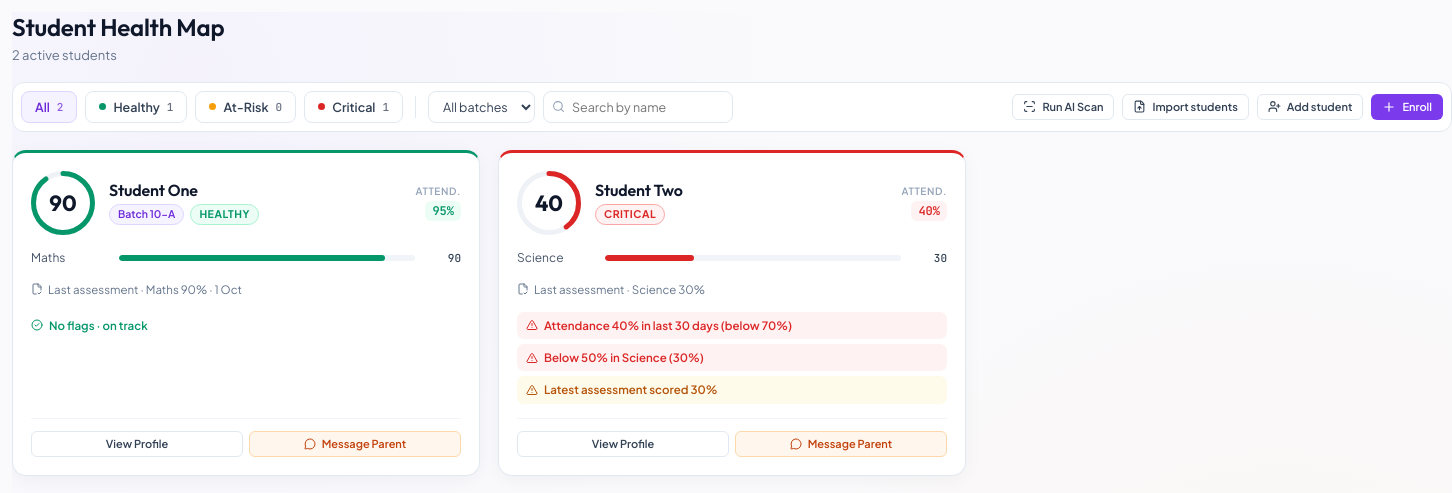
Test case: StudentHealthView › filters by health pill, search and batch
The image size is (1452, 493).
Expected: the heading "Student One" is shown, left=109, top=180, right=198, bottom=200
Click the button "Critical 1".
click(354, 106)  # box left=304, top=90, right=403, bottom=122
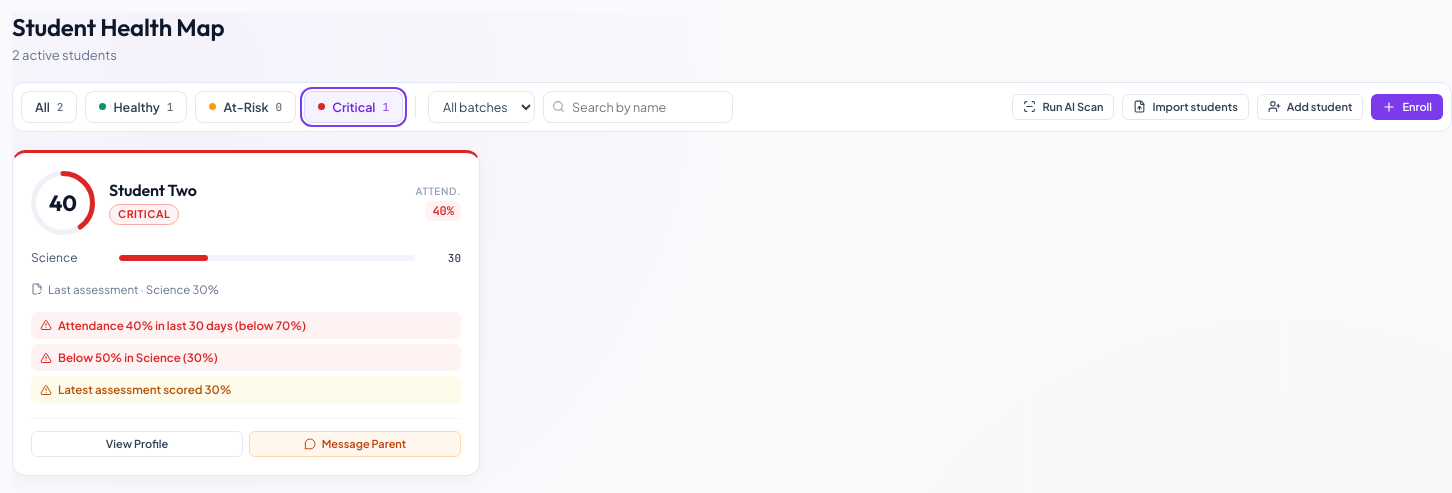
Expected: the heading "Student Two" is shown, left=109, top=180, right=197, bottom=200
Now the heading "Student One" is gone
Click the button "All 2".
click(49, 106)  # box left=21, top=90, right=77, bottom=122
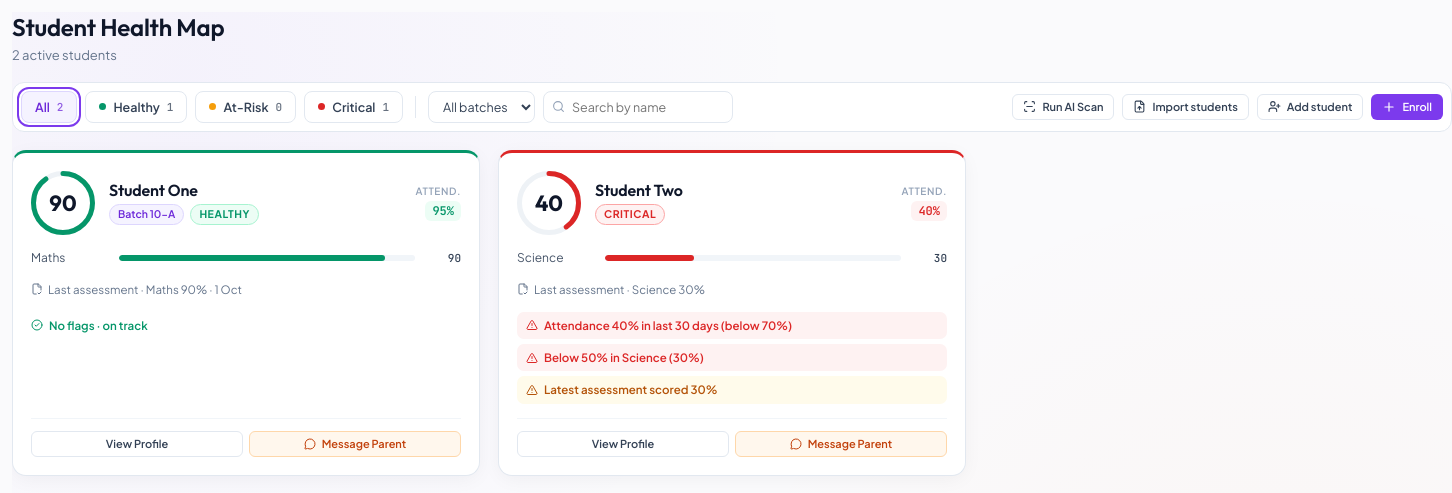
Type "two" into the search field named "Search students by name".
click(638, 106); type("two")  # box left=543, top=90, right=733, bottom=122
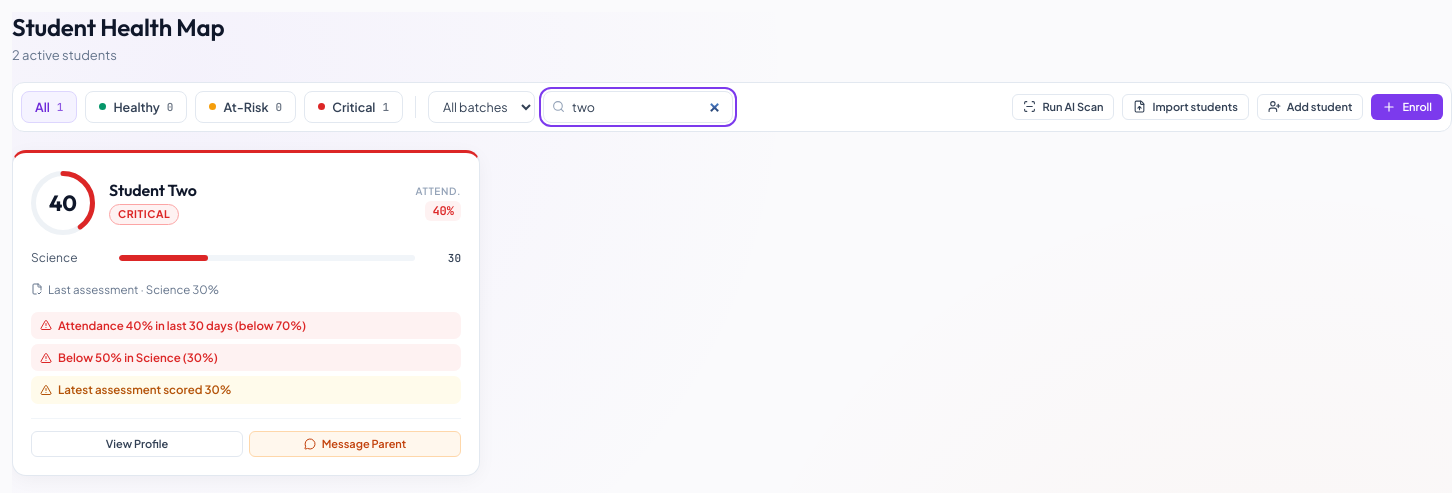
Now the heading "Student One" is gone
Clear the search field named "Search students by name" at (638, 106), box left=543, top=90, right=733, bottom=122
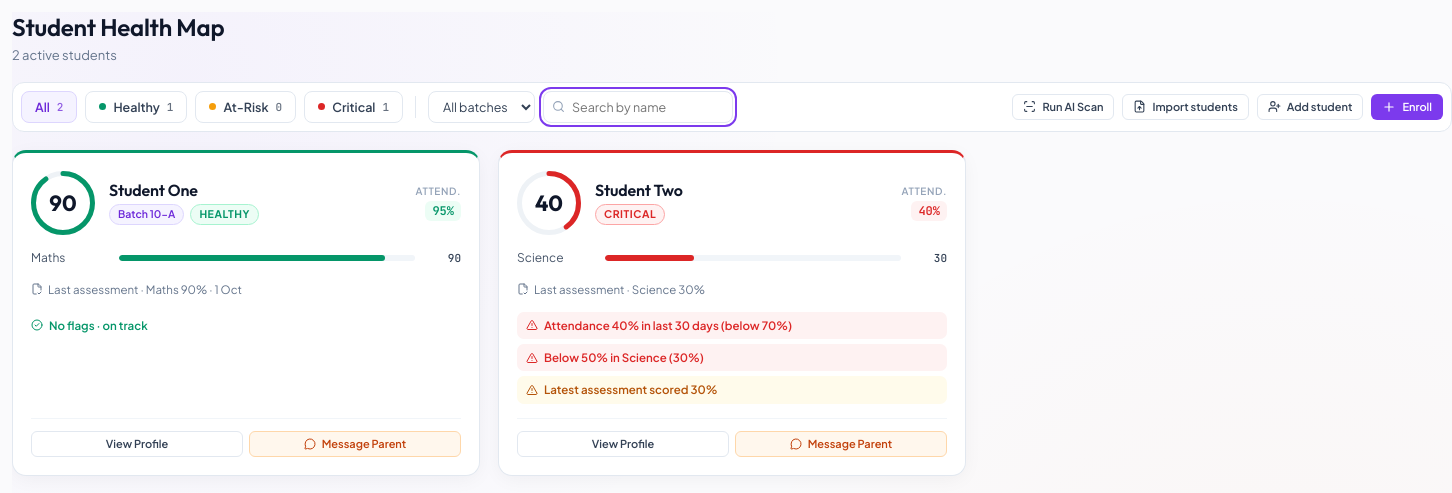
Select "10-A" in the dropdown named "Filter by batch" at (482, 106), box left=428, top=90, right=535, bottom=122
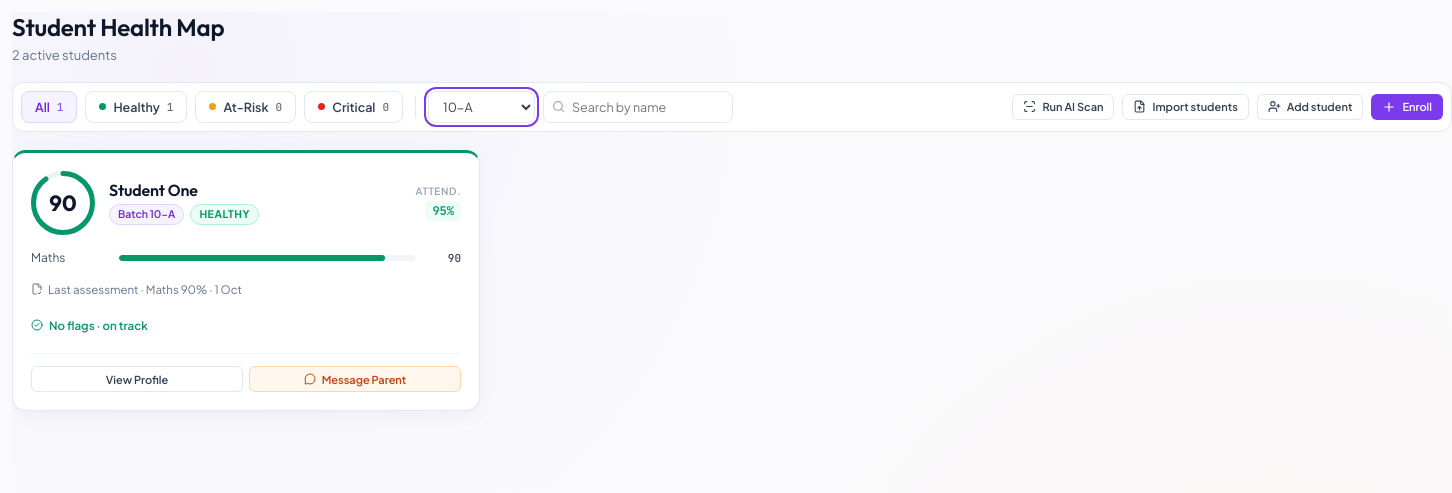
Now the heading "Student One" is shown, box left=109, top=180, right=198, bottom=200
Now the heading "Student Two" is gone
